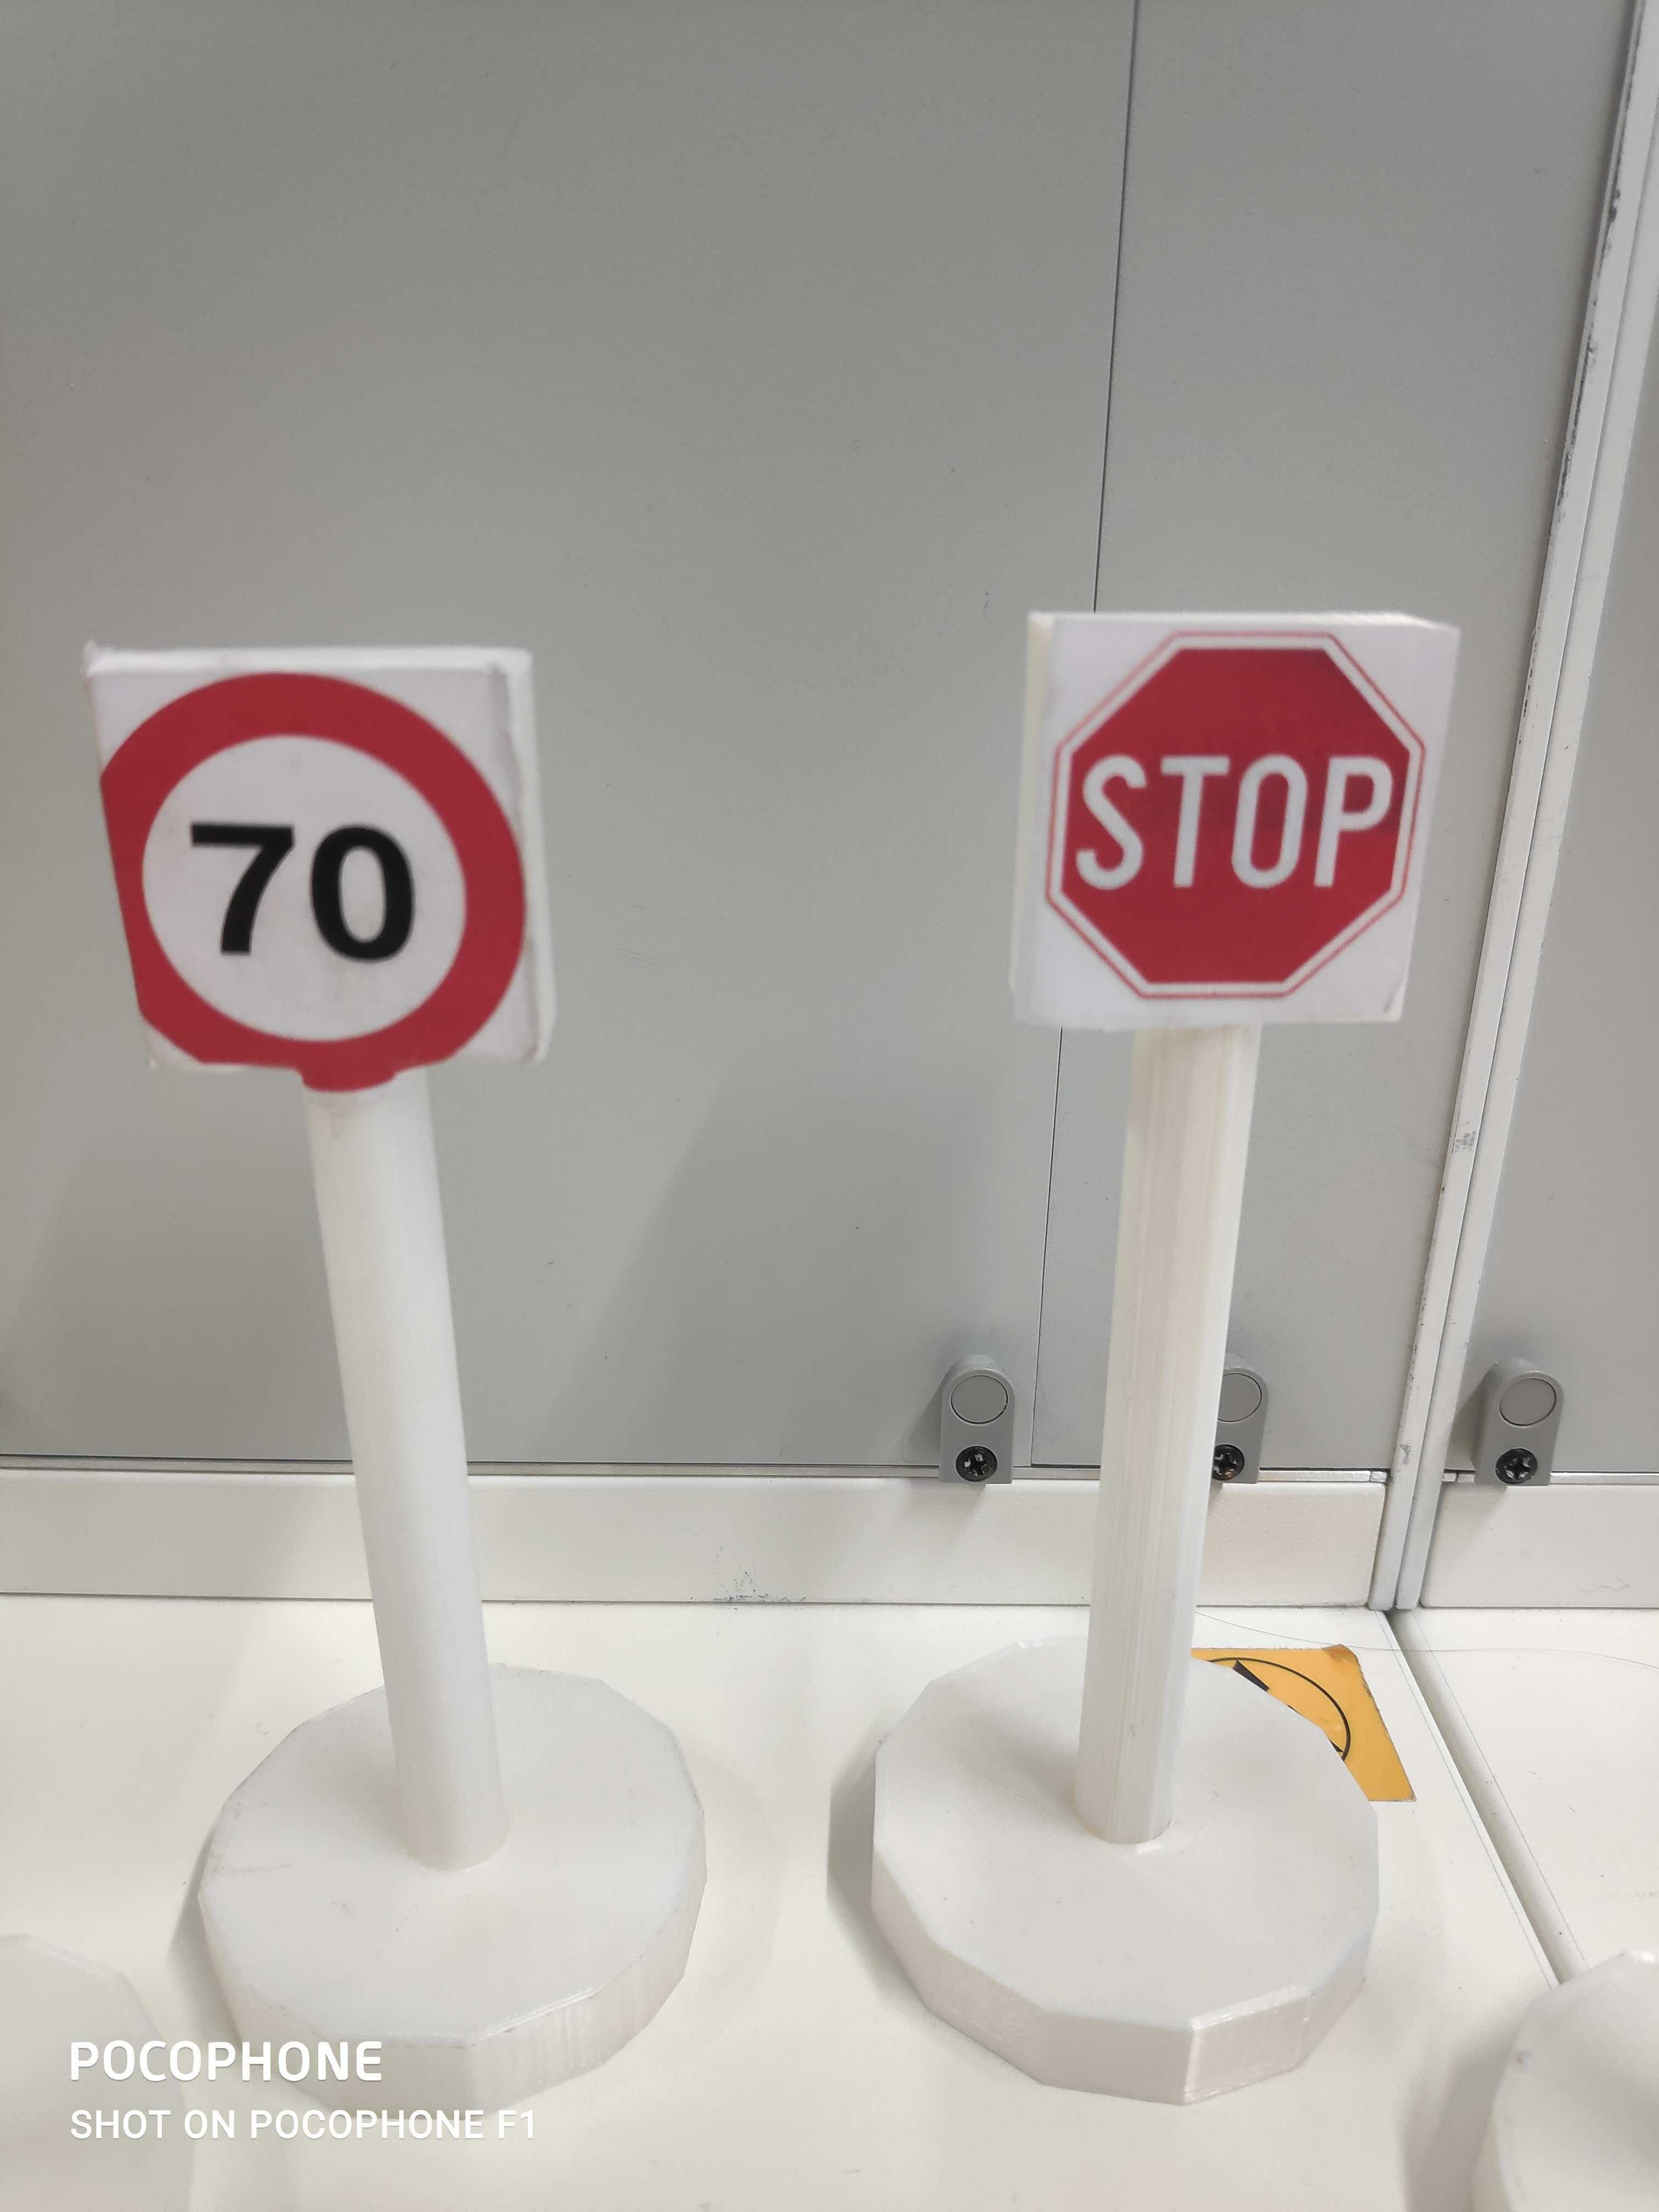70-bord: (96, 667, 535, 1078)
stop-bord: (1051, 634, 1431, 996)
